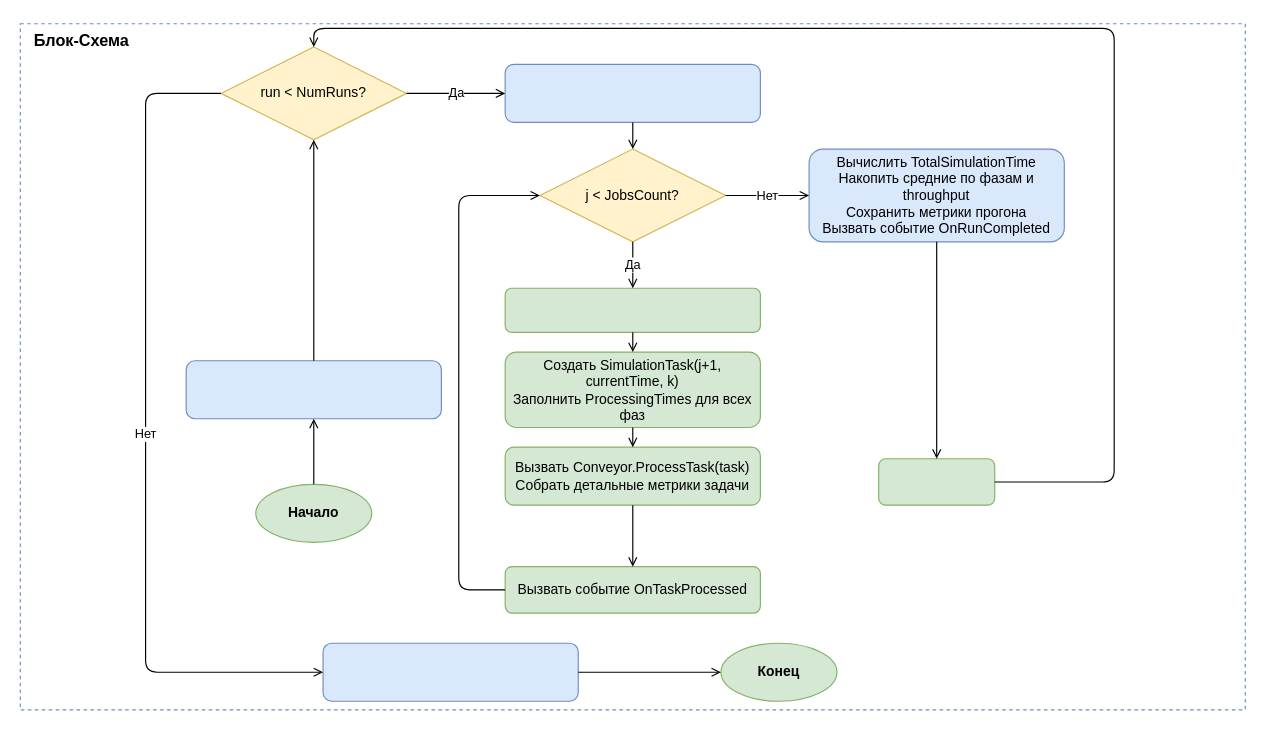
Image size: 1266x731. Some labels were removed from this diagram. Each missing label, with the centre of its shape:
"run++" goes at point (936, 481).
"Инициализировать массивы результатов, очистить коллекции сырых метрик" goes at point (313, 389).
"Сгенерировать интервал delta, currentTime += delta" goes at point (632, 309).
"Усреднить накопленные значения по всем прогонам" goes at point (450, 671).
"Установить seed, сбросить конвейер Создать массив _tasks" goes at point (632, 92).
